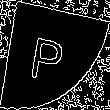P_N: (35, 27, 75, 83)
